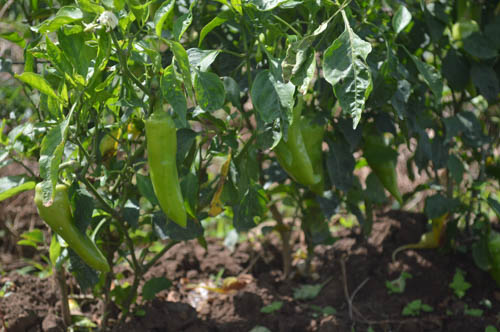ChiliPepper: (36, 184, 108, 270), (141, 118, 185, 228), (278, 113, 316, 185), (296, 121, 330, 197), (365, 134, 401, 201)
